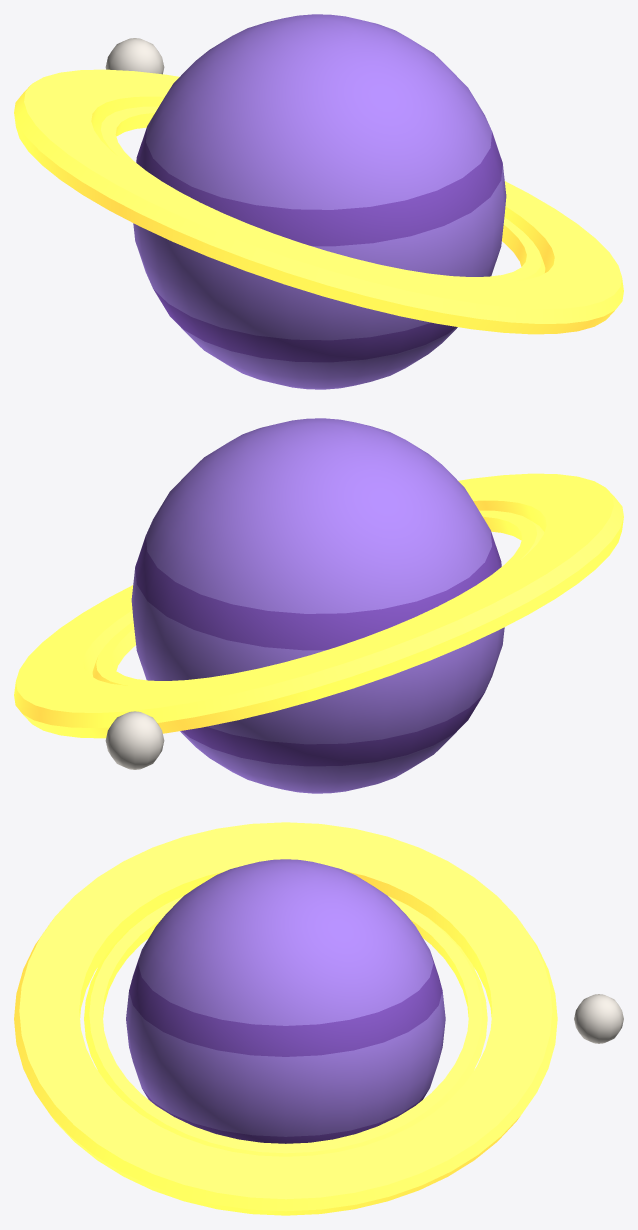
File: planete.fbx
3 renders of one model, top to bottom at view 1: azimuth 30°, elevation 25°; view 2: azimuth 150°, elevation 25°; view 3: azimuth 270°, elevation 25°, orthographic. The views are drawn at different scales.
Visible parts, largest first — view 1: Planete, AnneauPrincipal, AnneauExterieur, Lune; view 2: Planete, AnneauPrincipal, AnneauExterieur, Lune; view 3: AnneauPrincipal, Planete, AnneauExterieur, Lune.
Boxes of the visible parts, box(x1,y1,x2,y2) form: Planete: box(133, 14, 506, 389); AnneauPrincipal: box(14, 69, 623, 334); AnneauExterieur: box(93, 106, 545, 281); Lune: box(105, 38, 164, 74); Planete: box(131, 418, 504, 793); AnneauPrincipal: box(14, 473, 623, 738); AnneauExterieur: box(92, 510, 544, 685); Lune: box(105, 711, 164, 769); AnneauPrincipal: box(14, 822, 557, 1215); Planete: box(126, 859, 445, 1143); AnneauExterieur: box(84, 896, 487, 1156); Lune: box(574, 994, 623, 1043).
Bounding box in the file's own units: 0.7668 × 0.48 × 0.9155.
